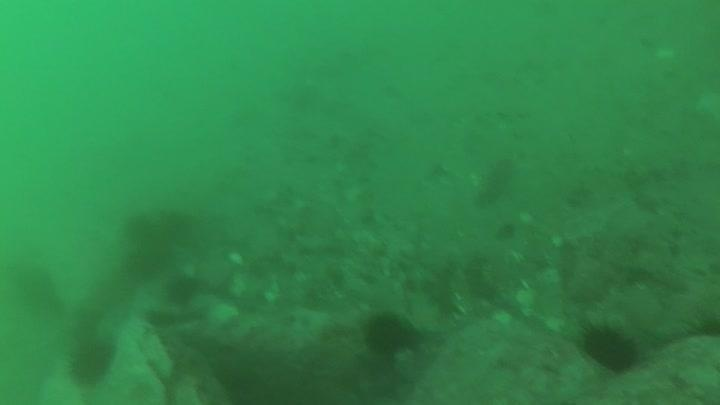echinus: (579, 321, 642, 376), (66, 336, 117, 388), (362, 310, 417, 357), (10, 261, 60, 312), (677, 305, 720, 359), (122, 242, 173, 282), (163, 273, 201, 308), (120, 211, 159, 245)
holothurian: (473, 155, 517, 208)
